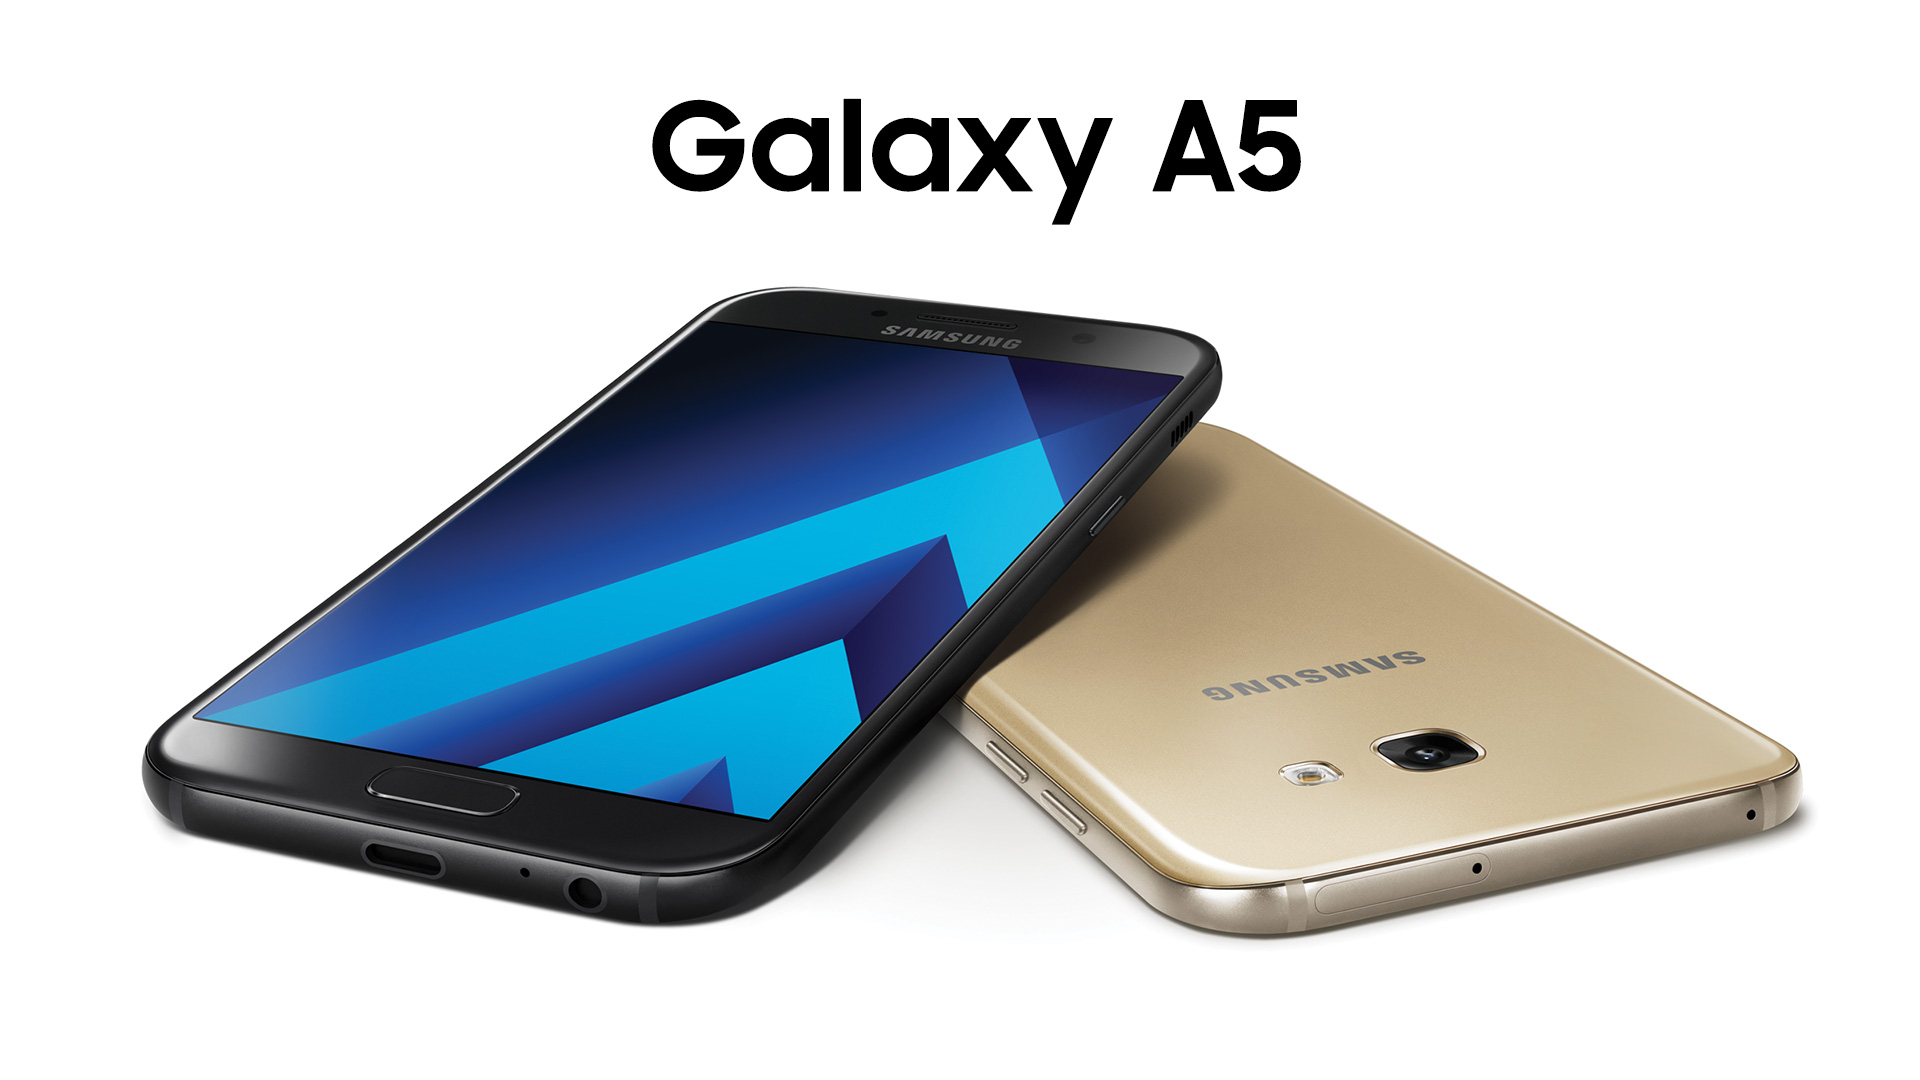smartphone: (141, 286, 1222, 926), (934, 419, 1805, 939)
